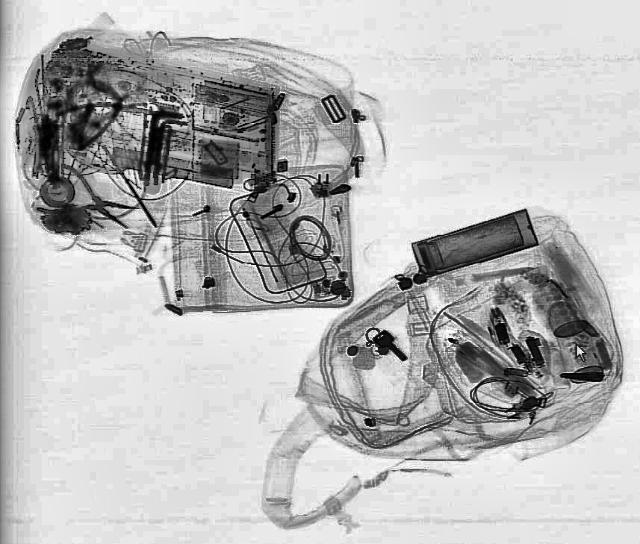Pliers: (30, 160, 150, 242)
